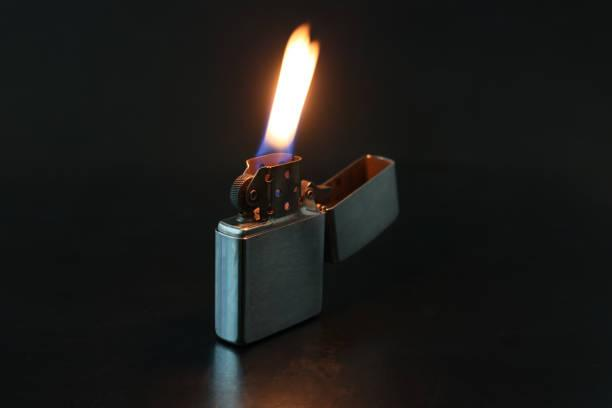Fire: (253, 15, 321, 162)
